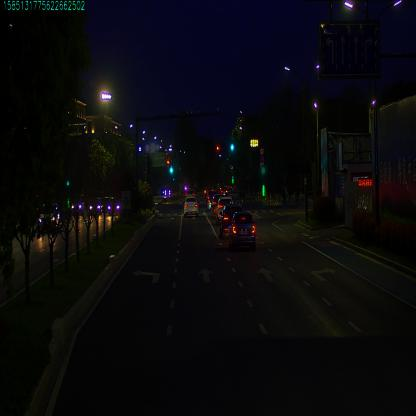traffic-light: (229, 141, 237, 153), (216, 143, 220, 152)
